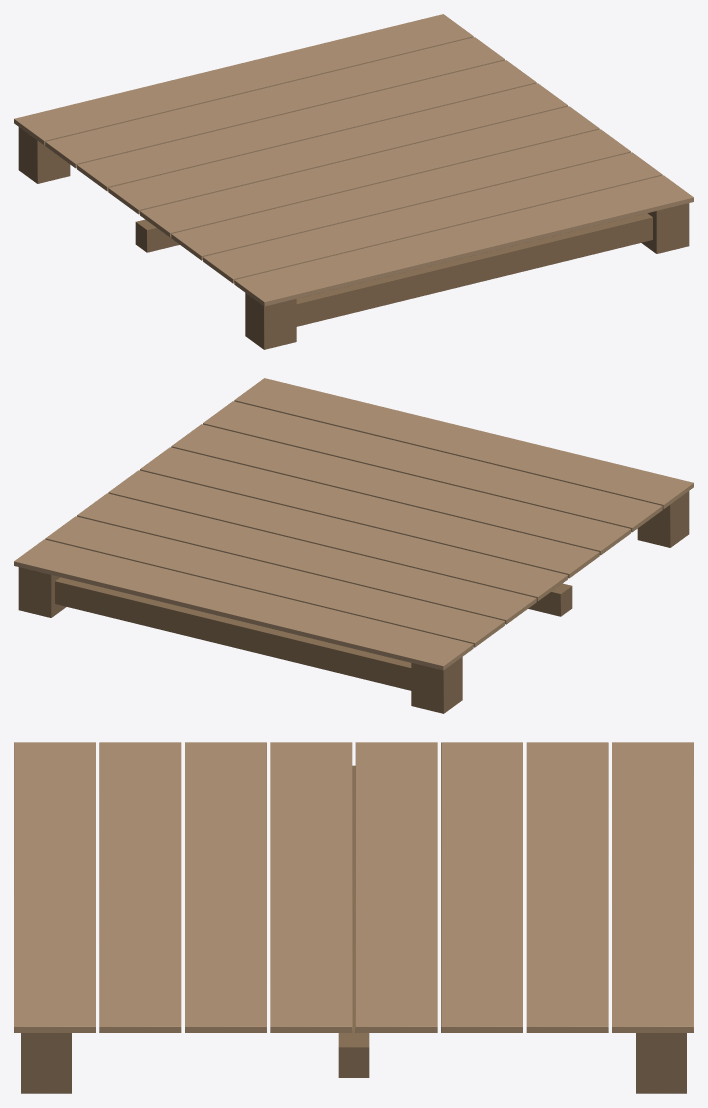
Rendered from SM_BLD_FOUNDATION_SQUARE_WOOD.fbx.
3 views of the same model, one above another, from view 1: azimuth 30°, elevation 25°; view 2: azimuth 150°, elevation 25°; view 3: azimuth 270°, elevation 25° (orthographic). The views are drawn at different scales.
Parts seen in each view (by area): view 1: SM_BLD_FOUNDATION_SQUARE_WOOD; view 2: SM_BLD_FOUNDATION_SQUARE_WOOD; view 3: SM_BLD_FOUNDATION_SQUARE_WOOD.
Boxes of the visible parts, x1=… form: SM_BLD_FOUNDATION_SQUARE_WOOD: x1=14, y1=14, x2=693, y2=349; SM_BLD_FOUNDATION_SQUARE_WOOD: x1=14, y1=378, x2=693, y2=713; SM_BLD_FOUNDATION_SQUARE_WOOD: x1=14, y1=742, x2=693, y2=1093.
Size of what is drawn, in the model's own units: 3.94 by 0.44 by 3.98.
